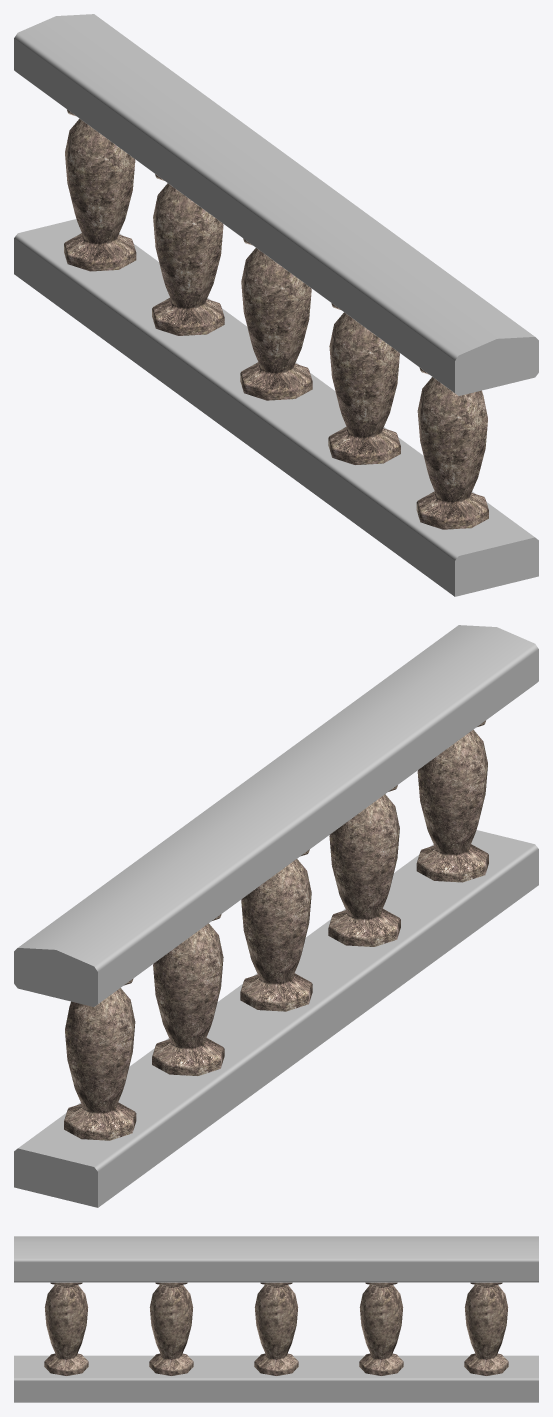
Rendered from Geländer_4m.gltf.
3 renders of one model, top to bottom at view 1: azimuth 30°, elevation 25°; view 2: azimuth 150°, elevation 25°; view 3: azimuth 270°, elevation 25°, orthographic. The views are drawn at different scales.
Parts seen in each view (by area): view 1: Geländer_4m; view 2: Geländer_4m; view 3: Geländer_4m.
Boxes of the visible parts, x1,y1,x2,y2 form: Geländer_4m: (14, 14, 538, 596); Geländer_4m: (14, 625, 538, 1207); Geländer_4m: (14, 1236, 538, 1402).
Bounding box in the file's own units: 0.44 × 1.24 × 4.
